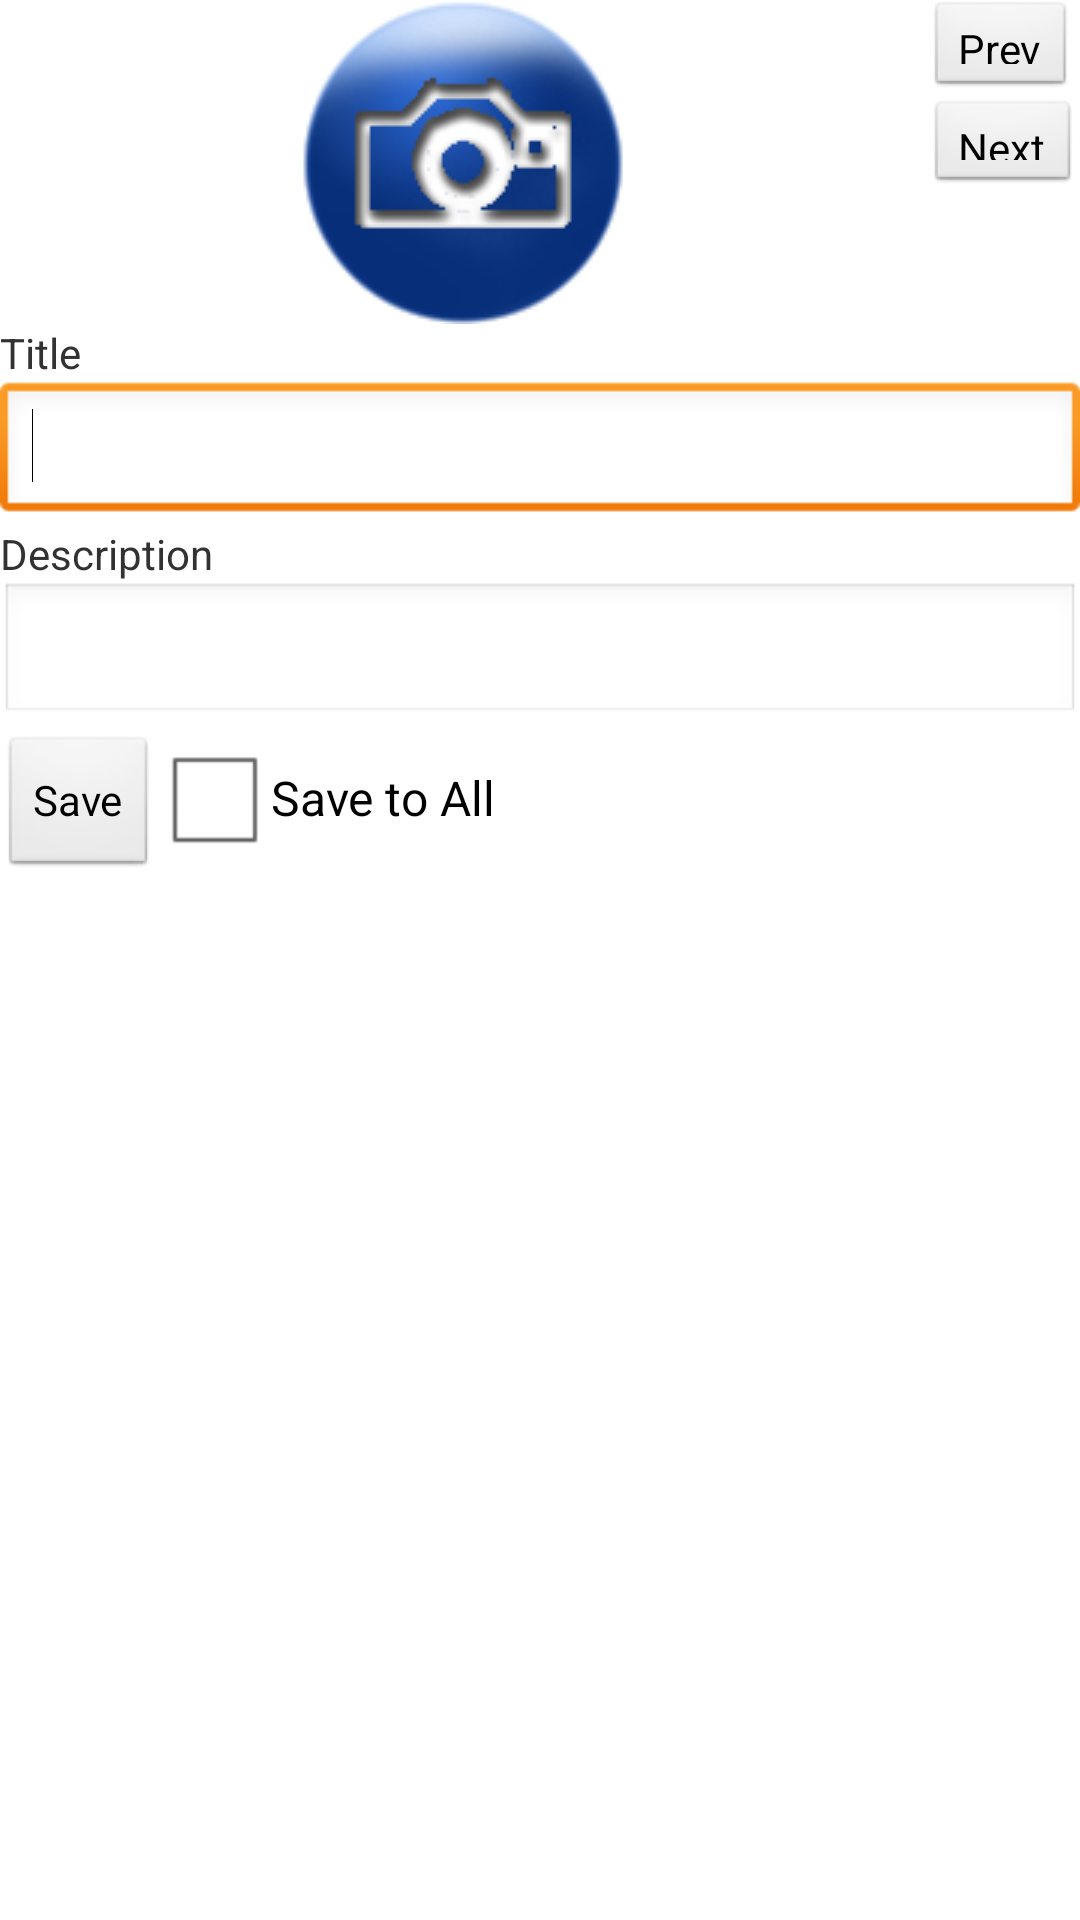

Icons on this 1080 x 1920 Android screen, each with the point to tap as (x,y):
camera: (463,163)
